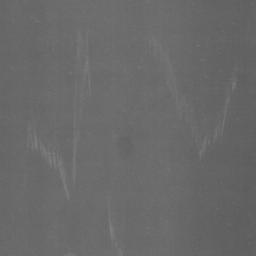Silk spot: (29, 135, 80, 176)
